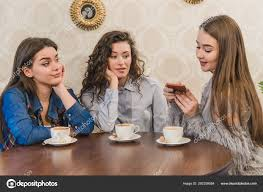person: (191, 17, 248, 116), (12, 37, 74, 120), (88, 32, 155, 107)
